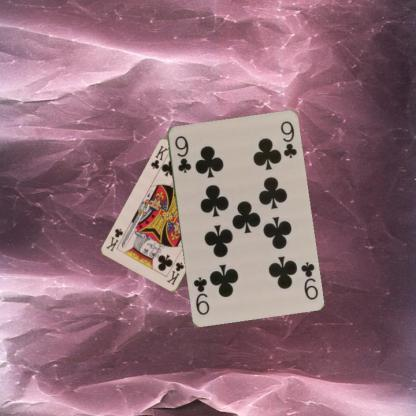9c: (297, 259, 319, 301), (172, 132, 192, 174)
Kc: (164, 260, 186, 287), (148, 144, 170, 170)
